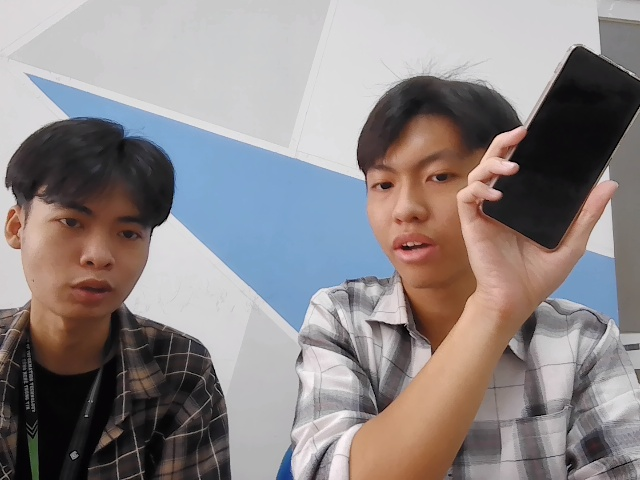human: (359, 76, 532, 293), (5, 109, 178, 318)
phone: (482, 27, 640, 260)
